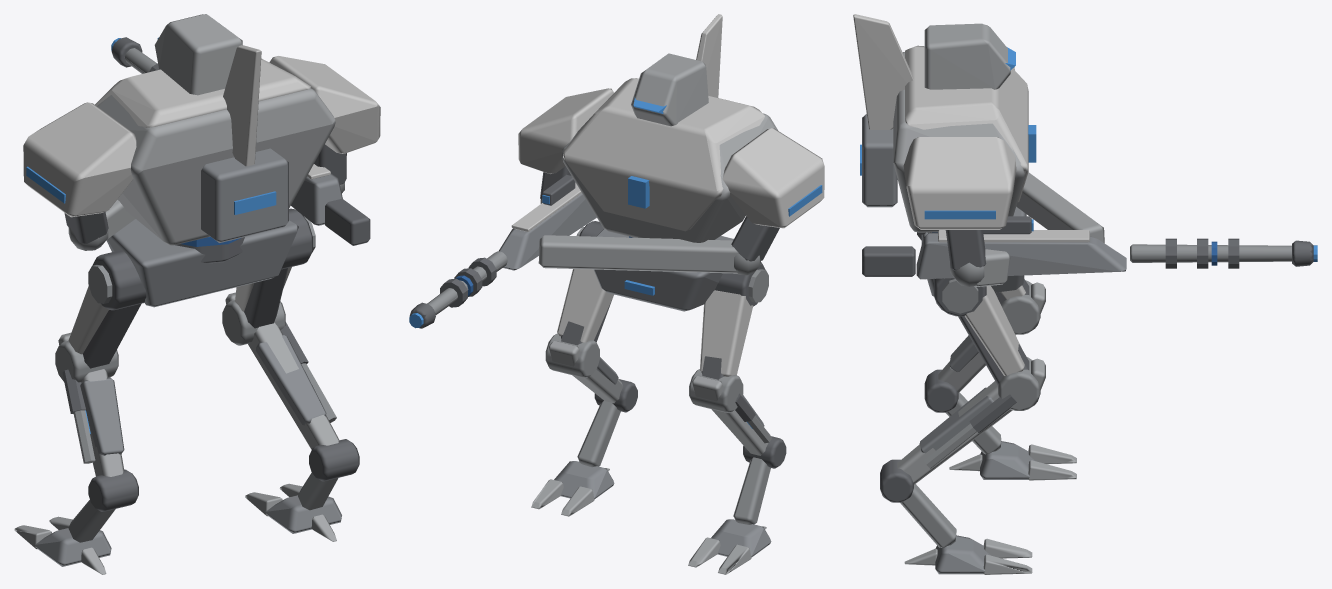
The model's file is lattice_assault_bot.glb.
The picture shows the model from 3 angles, left to right: view 1: azimuth 30°, elevation 25°; view 2: azimuth 150°, elevation 25°; view 3: azimuth 270°, elevation 25°; orthographic projection. The views are drawn at different scales.
Parts seen in each view (by area): view 1: Turret, Body; view 2: Turret, Body; view 3: Turret, Body.
Part boxes in pixels (left/top/right/bottom): Turret: left=23, top=14, right=380, bottom=263; Body: left=14, top=208, right=359, bottom=574; Turret: left=409, top=14, right=824, bottom=328; Body: left=531, top=221, right=786, bottom=574; Turret: left=853, top=14, right=1317, bottom=286; Body: left=880, top=206, right=1076, bottom=574.
Bounding box in the file's own units: 0.758 × 1.24 × 1.04.
